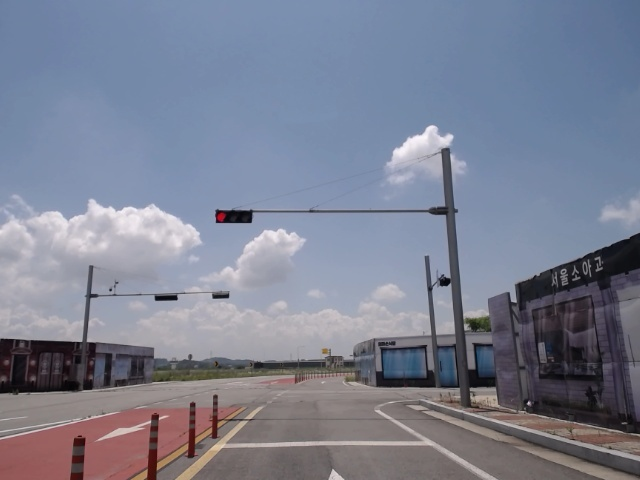red_3: (214, 210, 252, 226)
